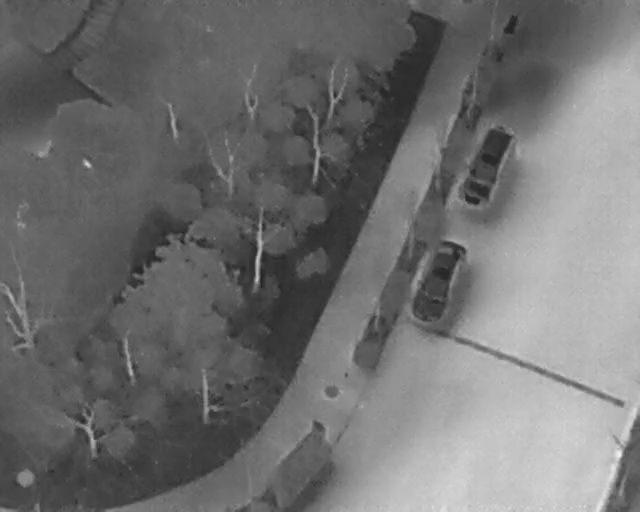Car: (403, 234, 472, 333), (451, 116, 520, 215)
